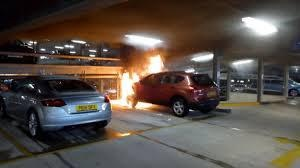fire: (112, 55, 164, 107)
